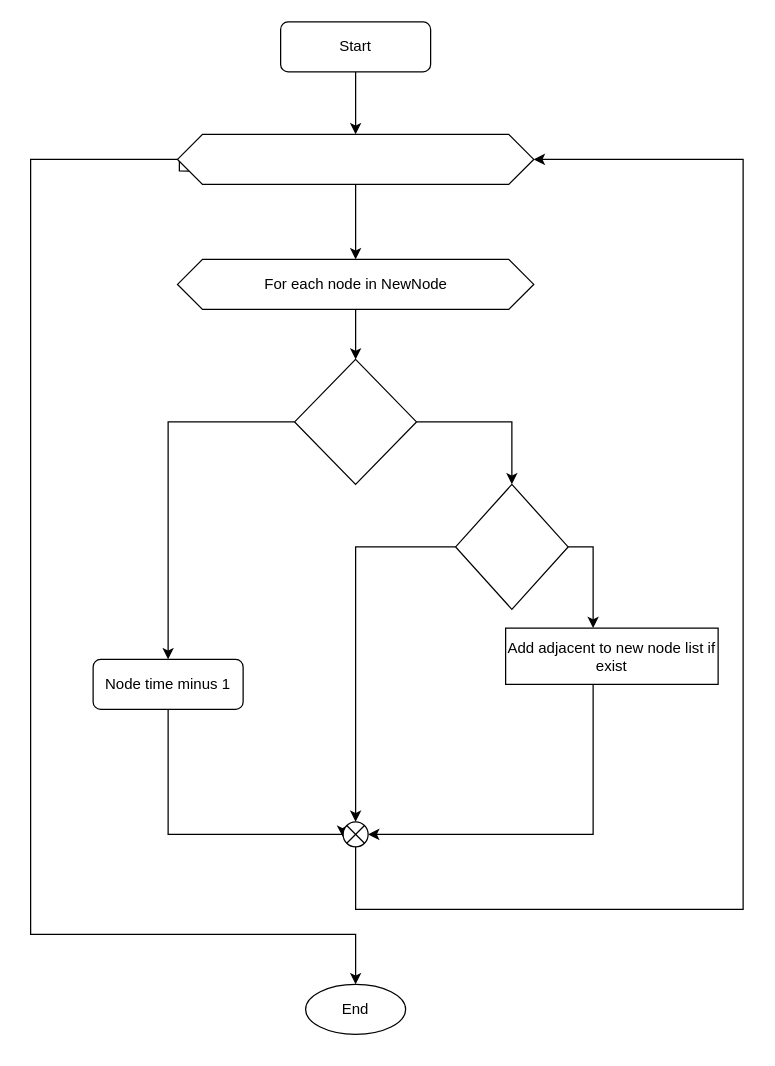
Some shapes in this 775 by 1066 pixel diagram are drawn without their labels. The shapes that lost their labels are listed below. From the top down, each one's centre as x and y in pixels, then its label:
pixel 355 158: While End point is not reached
pixel 354 421: If Node time =0
pixel 511 546: If nodes adjacent are not visited
